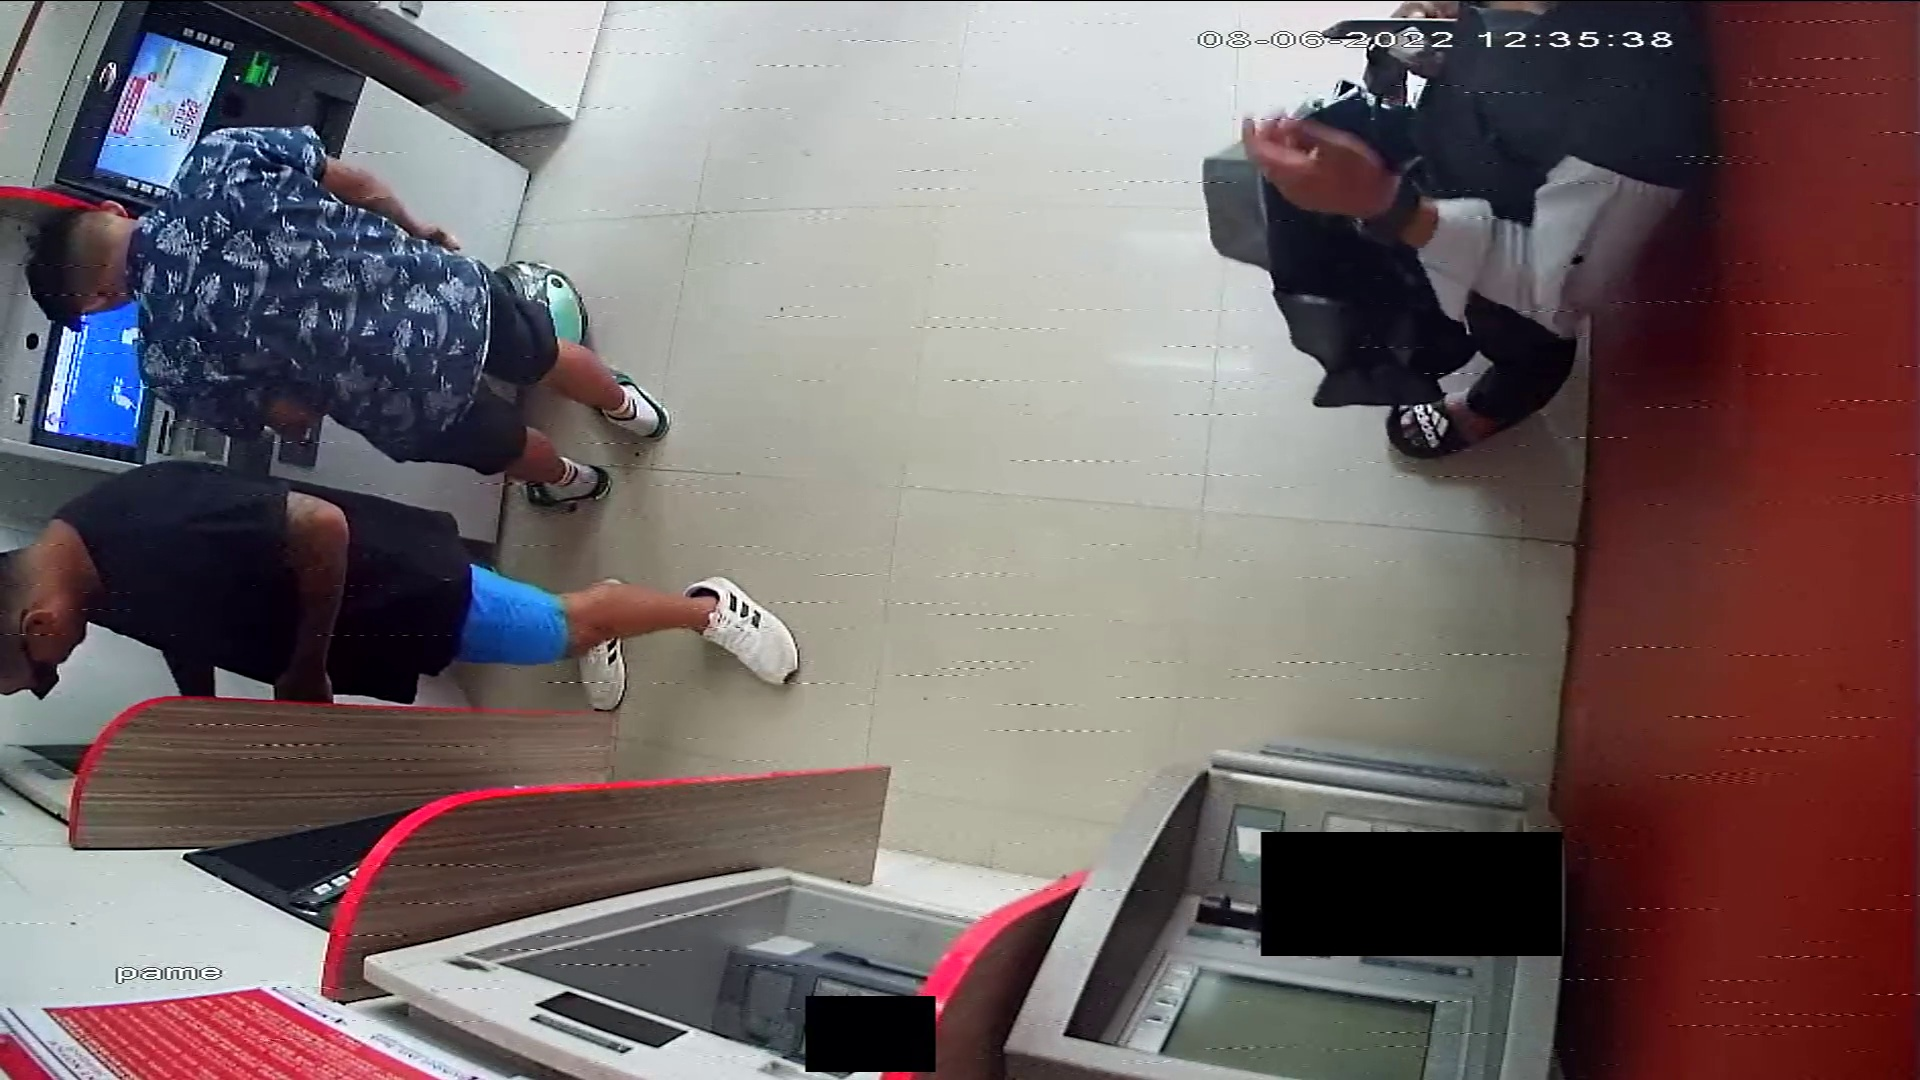person: (21, 126, 677, 506), (1239, 1, 1707, 456), (1, 460, 803, 718)
